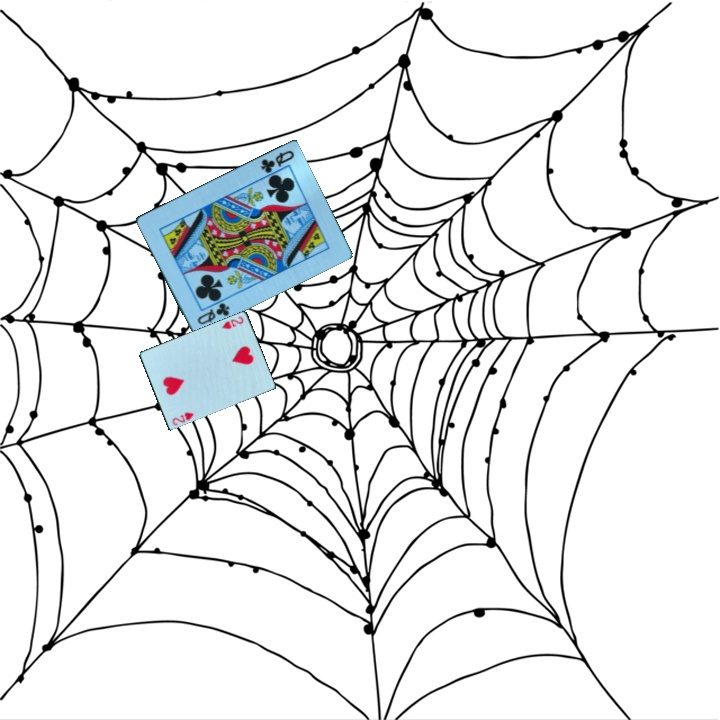2h: (169, 408, 197, 428), (218, 313, 246, 332)
Qc: (257, 147, 297, 176), (193, 299, 232, 328)
